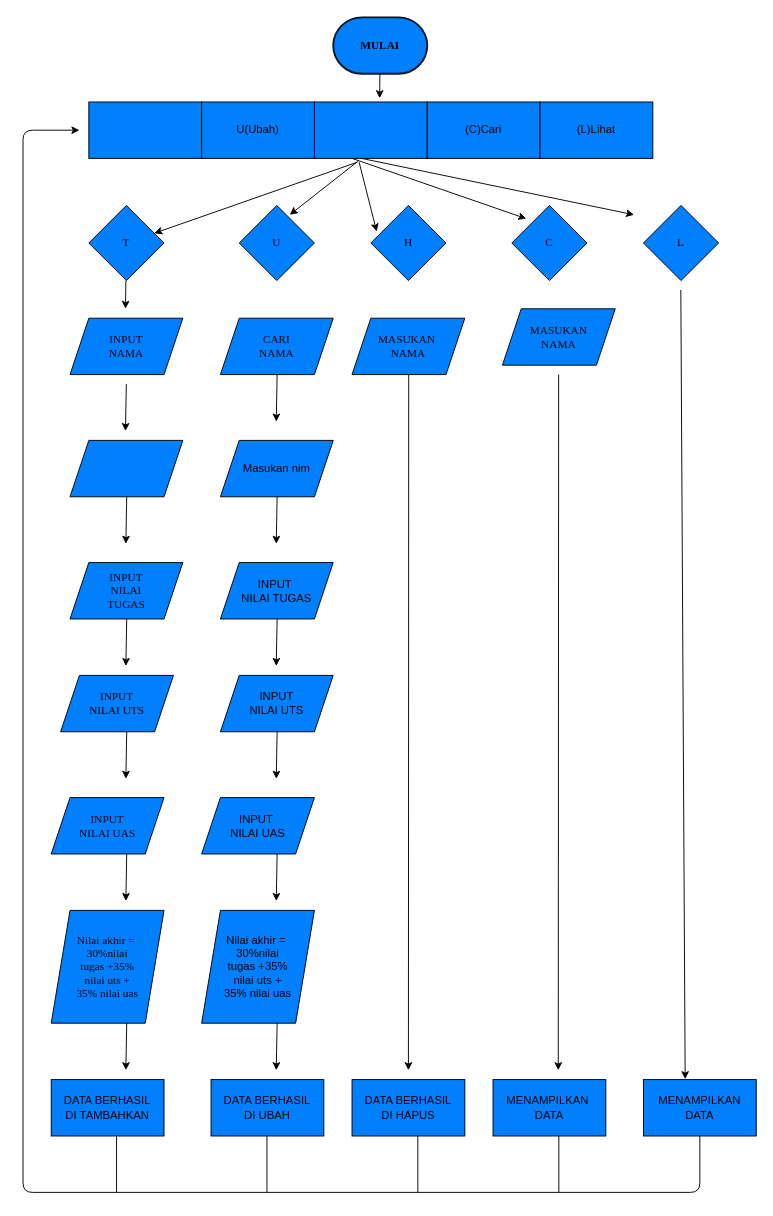
Image size: 773x1216. Some labels were removed from this diagram. Each missing label, with the box of its shape:
(H)Hapus: (313, 101, 427, 158)
(T)TAMBAH: (88, 101, 202, 158)
INPUT NIM: (69, 439, 183, 497)
